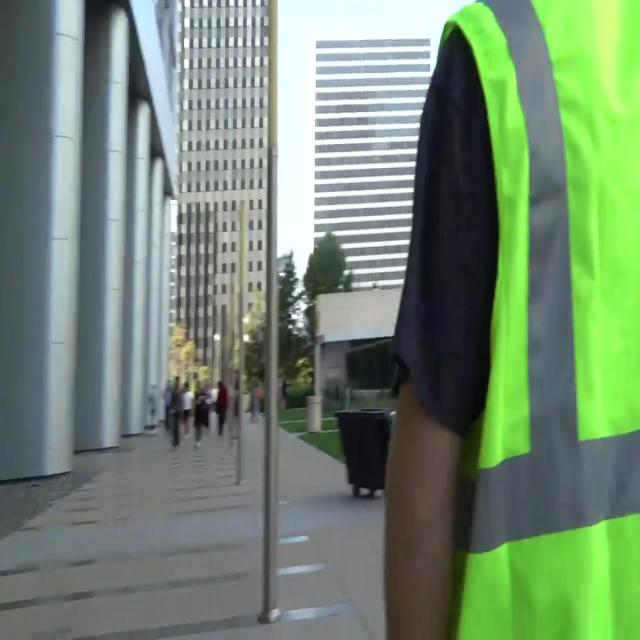Reflective-Jacket: (425, 0, 640, 635)
